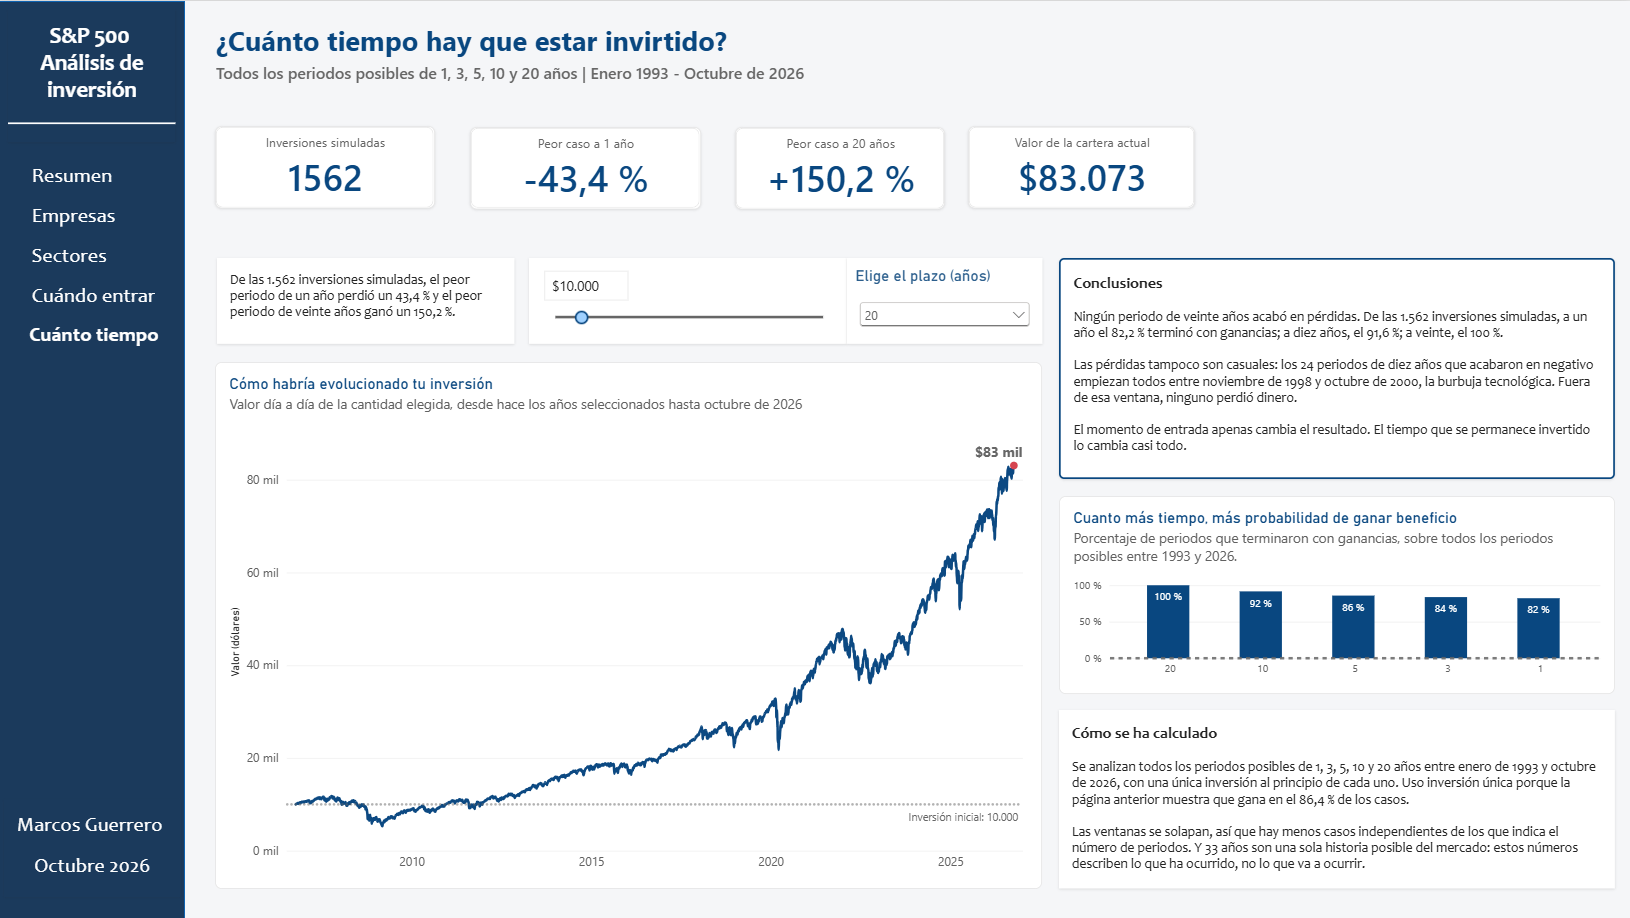

What the dashboard file says about the page in this screenshot:
{"tool":"powerbi","page":{"name":"Cuánto tiempo","canvas":[1920,1080],"ordinal":4},"visuals":[{"type":"textbox","box":[256.7,23.7,1320,70],"z":0},{"type":"textbox","box":[256,72,1320,30.7],"z":1000},{"type":"cardVisual","fields":{"Data":["ventanas_plazo.Periodos analizados"]},"box":[255.7,147.1,258.6,97.1],"z":2000},{"type":"cardVisual","fields":{"Data":["_Medidas.Peor resultado a 1 año"]},"box":[555.7,148.6,271.7,96.6],"z":3000},{"type":"shape","box":[0,0,220,1080],"z":4000},{"type":"textbox","box":[12,9.3,197.3,157.3],"z":5000},{"type":"shape","box":[12,81.3,197.3,125.3],"z":6000},{"type":"textbox","box":[6.7,938.7,208,114.7],"z":7000},{"type":"cardVisual","fields":{"Data":["ventanas_plazo.Peor resultado a 20 años"]},"box":[867.1,148.6,247,97.5],"z":8000},{"type":"clusteredColumnChart","title":"Cuanto más tiempo, más probabilidad de ganar beneficio","fields":{"Category":["resumen_plazo.plazo_anios"],"Y":["Sum(resumen_plazo.porcentaje_gana)"]},"box":[1248.6,582.9,654.3,232.9],"z":9000},{"type":"slicer","fields":{"Values":["Cantidad invertida.Cantidad invertida"]},"box":[624.3,302.9,374.3,101.4],"z":10000},{"type":"slicer","title":"Elige el plazo (años)","fields":{"Values":["evolucion_plazos.plazo_anios"]},"box":[998.6,302.9,230,101.4],"z":11000},{"type":"lineChart","title":"Cómo habría evolucionado tu inversión","fields":{"Category":["evolucion_plazos.Date"],"Y":["_Medidas.Valor inversión","_Medidas.Etiqueta final"]},"box":[255.7,424.3,972.9,620],"z":12000},{"type":"textbox","box":[257.1,302.9,350,101.4],"z":13000},{"type":"textbox","box":[1248.6,834.3,654.3,210],"z":14000},{"type":"textbox","box":[1248.6,302.9,654.3,260],"z":15000},{"type":"cardVisual","fields":{"Data":["_Medidas.Valor final tarjeta"]},"box":[1141.4,147.1,267.1,97.1],"z":16000},{"type":"pageNavigator","box":[24.2,183.8,184.8,228.3],"z":17000}]}

Visuals, with their boxes on the page's 1920x1080 design canvas (x1, y1, x2, y2). These are canvas units, not pixel positions in the 1630x918 screenshot, which may show the page scaled, cropped or inside an application window:
textbox: (257,24,1577,94)
textbox: (256,72,1576,103)
cardVisual - ventanas_plazo.Periodos analizados: (256,147,514,244)
cardVisual - _Medidas.Peor resultado a 1 año: (556,149,827,245)
shape: (0,0,220,1080)
textbox: (12,9,209,167)
shape: (12,81,209,207)
textbox: (7,939,215,1053)
cardVisual - ventanas_plazo.Peor resultado a 20 años: (867,149,1114,246)
"Cuanto más tiempo, más probabilidad de ganar beneficio" clusteredColumnChart: (1249,583,1903,816)
slicer - Cantidad invertida.Cantidad invertida: (624,303,999,404)
"Elige el plazo (años)" slicer: (999,303,1229,404)
"Cómo habría evolucionado tu inversión" lineChart: (256,424,1229,1044)
textbox: (257,303,607,404)
textbox: (1249,834,1903,1044)
textbox: (1249,303,1903,563)
cardVisual - _Medidas.Valor final tarjeta: (1141,147,1408,244)
pageNavigator: (24,184,209,412)
